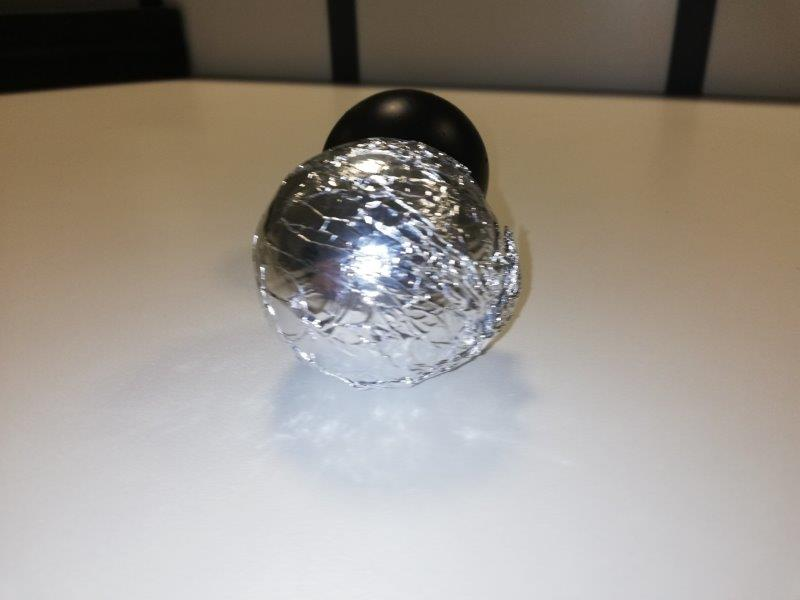bianca: (255, 138, 519, 382)
nera: (319, 87, 490, 190)
